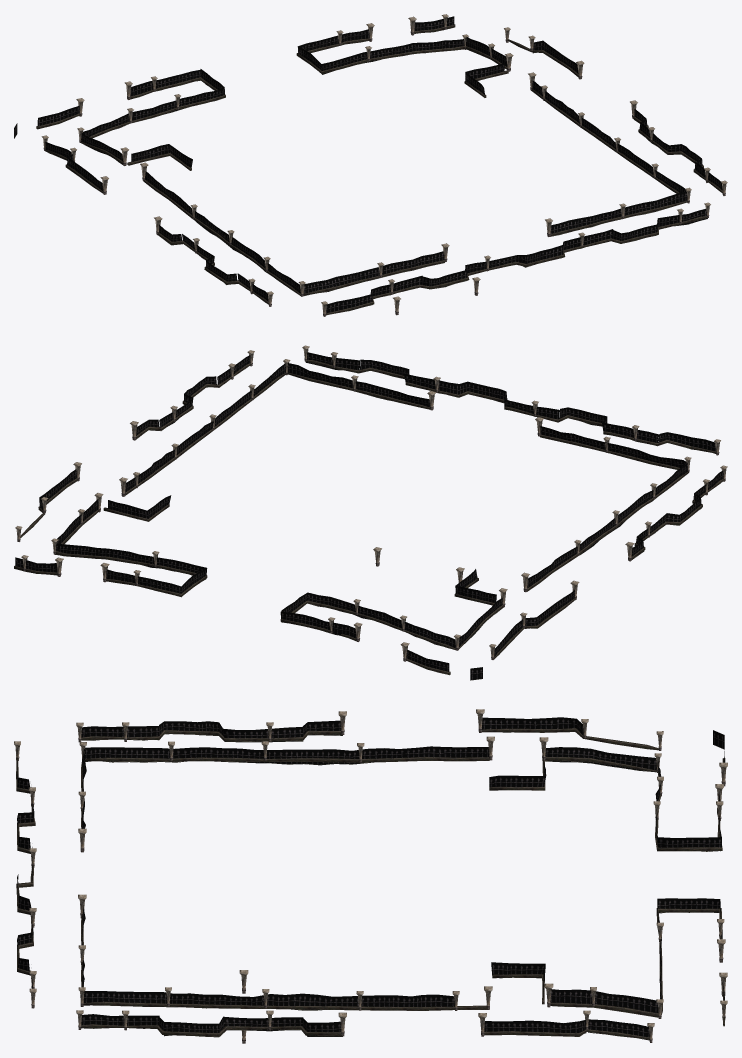
The model's file is OZ_30_er_build01C.glb.
The picture shows the model from 3 angles, top to bottom: view 1: azimuth 30°, elevation 25°; view 2: azimuth 150°, elevation 25°; view 3: azimuth 270°, elevation 25°; orthographic projection. The views are drawn at different scales.
Visible parts, largest first — view 1: OM_30_er_build01C; view 2: OM_30_er_build01C; view 3: OM_30_er_build01C.
Part boxes in pixels (box(x1,y1,x2,y2)): OM_30_er_build01C: box(14, 14, 727, 316); OM_30_er_build01C: box(14, 345, 727, 680); OM_30_er_build01C: box(14, 709, 727, 1043).
Bounding box in the file's own units: 61.33 × 14.54 × 60.61.
Materials: 1 (1 with a texture image).
